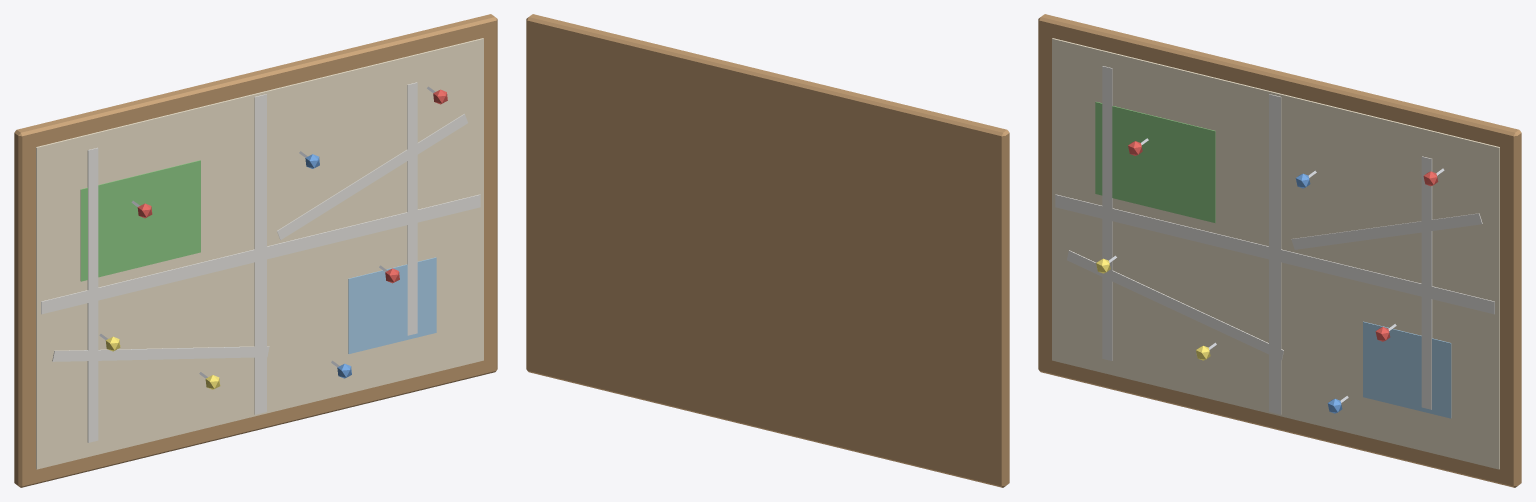
File: prop_neighborhood_map_01.glb
3 renders of one model, left to right at view 1: azimuth 30°, elevation 25°; view 2: azimuth 150°, elevation 25°; view 3: azimuth 330°, elevation 25°, orthographic.
Visible parts, largest first — view 1: prop_neighborhood_map_01_body; view 2: prop_neighborhood_map_01_body; view 3: prop_neighborhood_map_01_body.
Boxes of the visible parts, x1,y1,x2,y2 form: prop_neighborhood_map_01_body: (14, 14, 497, 487); prop_neighborhood_map_01_body: (526, 14, 1009, 487); prop_neighborhood_map_01_body: (1038, 14, 1521, 487).
Size of the model in its own units: 1.2 by 0.85 by 0.1033.
